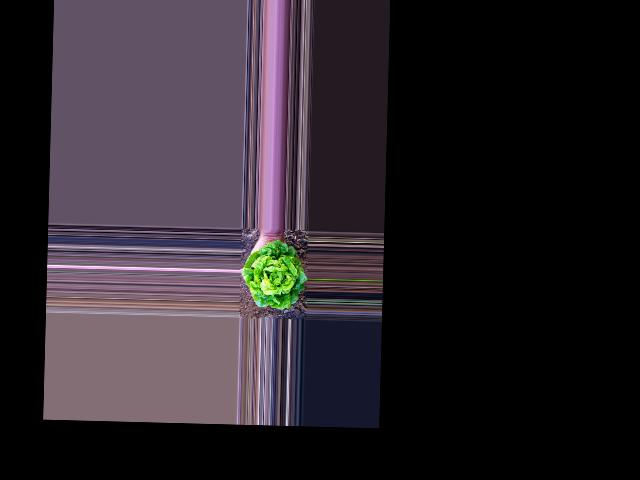lettuce: (242, 243, 306, 311)
